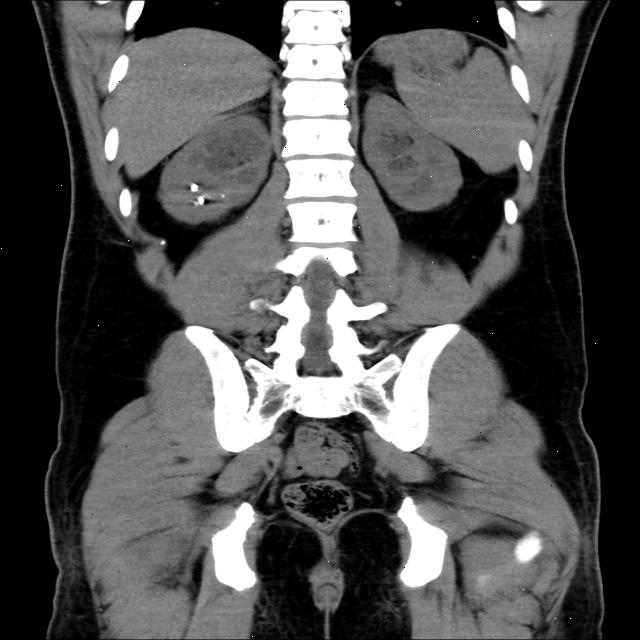kidneystone: (194, 198, 206, 205), (191, 182, 198, 193)
